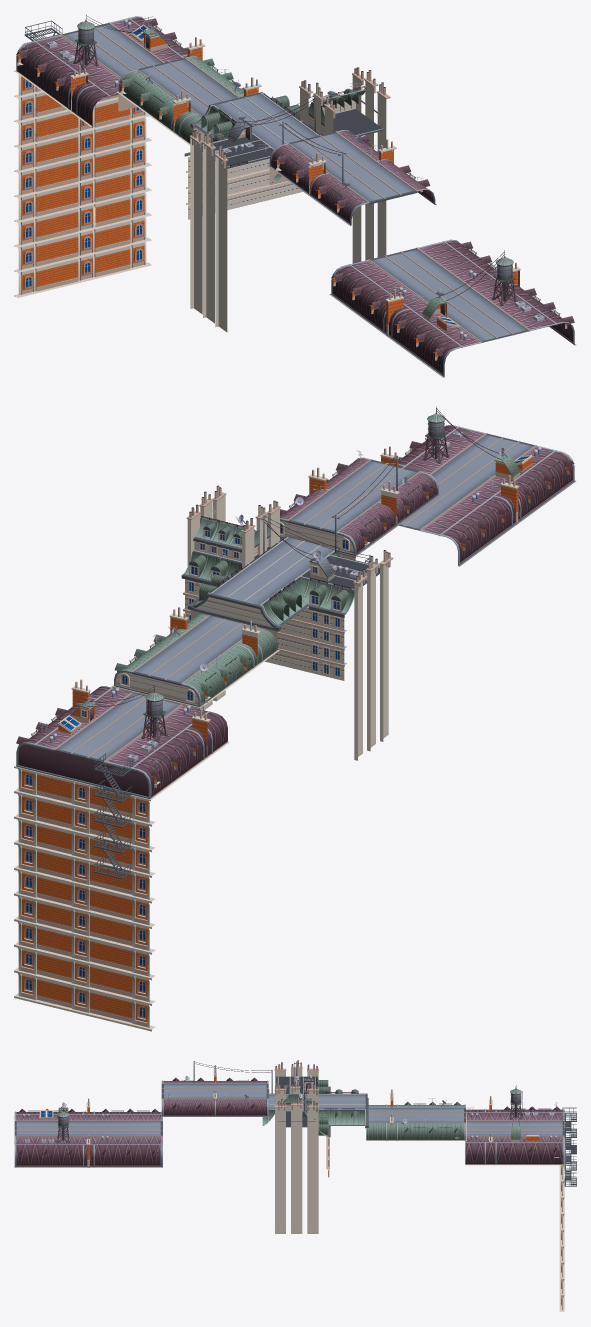
Rendered from Rooftop_Chunk_05_Step.FBX.
3 views of the same model, one above another, from view 1: azimuth 30°, elevation 25°; view 2: azimuth 150°, elevation 25°; view 3: azimuth 270°, elevation 25° (orthographic). The views are drawn at different scales.
Parts seen in each view (by area): view 1: Rooftop_Chunk_05, Rooftop_Chunk_05_Wall_Front, Rooftop_Chunk_05_Road; view 2: Rooftop_Chunk_05, Rooftop_Chunk_05_Wall_Front, Rooftop_Chunk_05_Road; view 3: Rooftop_Chunk_05, Rooftop_Chunk_05_Road, Rooftop_Chunk_05_Wall_Front.
Boxes of the visible parts, x1,y1,x2,y2 form: Rooftop_Chunk_05: (14, 14, 576, 377); Rooftop_Chunk_05_Wall_Front: (14, 74, 302, 297); Rooftop_Chunk_05_Road: (61, 22, 529, 342); Rooftop_Chunk_05: (14, 406, 576, 879); Rooftop_Chunk_05_Wall_Front: (14, 579, 346, 1031); Rooftop_Chunk_05_Road: (54, 433, 536, 762); Rooftop_Chunk_05: (14, 1060, 576, 1233); Rooftop_Chunk_05_Road: (14, 1083, 564, 1136); Rooftop_Chunk_05_Wall_Front: (326, 1136, 564, 1311).
Bounding box in the file's own units: 137 × 269 × 614.
